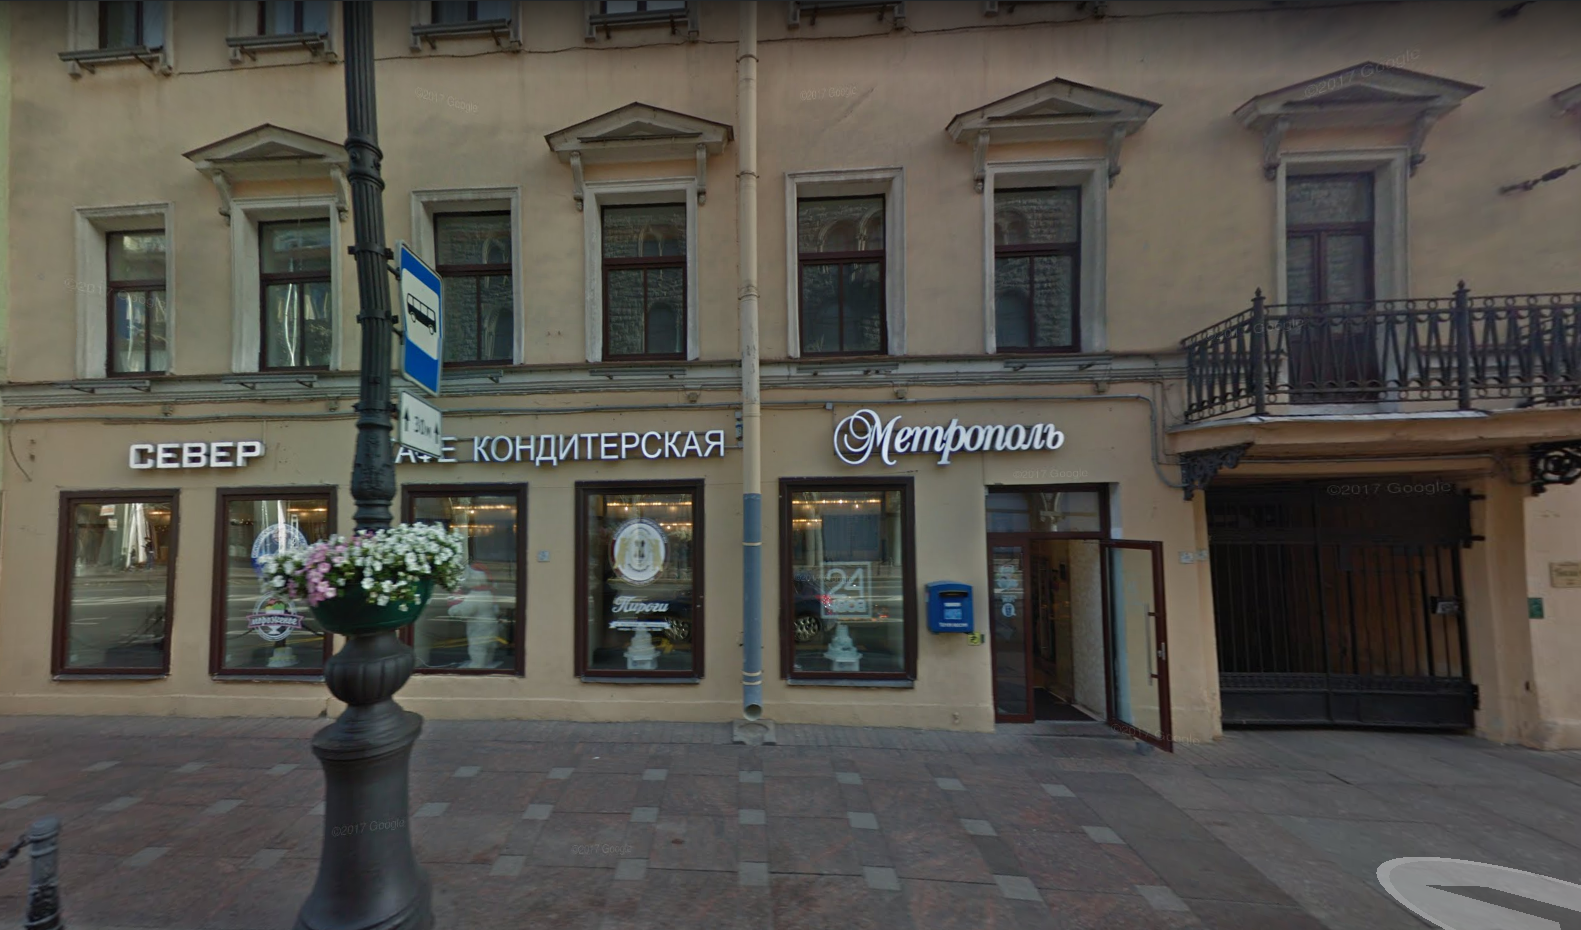arch: (1211, 449, 1501, 750)
door: (998, 496, 1169, 727)
signboard: (823, 407, 1068, 466), (471, 426, 730, 469), (120, 430, 267, 469)
win_ad: (595, 519, 685, 648)
window: (785, 480, 913, 678), (577, 484, 701, 680), (410, 490, 531, 682), (59, 493, 176, 676), (218, 492, 331, 676), (595, 195, 686, 366), (797, 189, 889, 361), (995, 187, 1082, 353), (427, 207, 519, 361), (1290, 170, 1373, 330), (254, 210, 329, 366), (104, 219, 168, 374)
